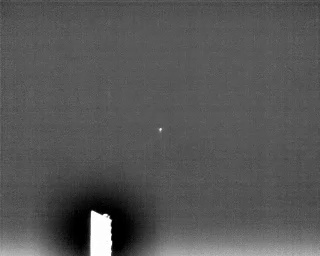BIRD: (156, 125, 165, 136)
